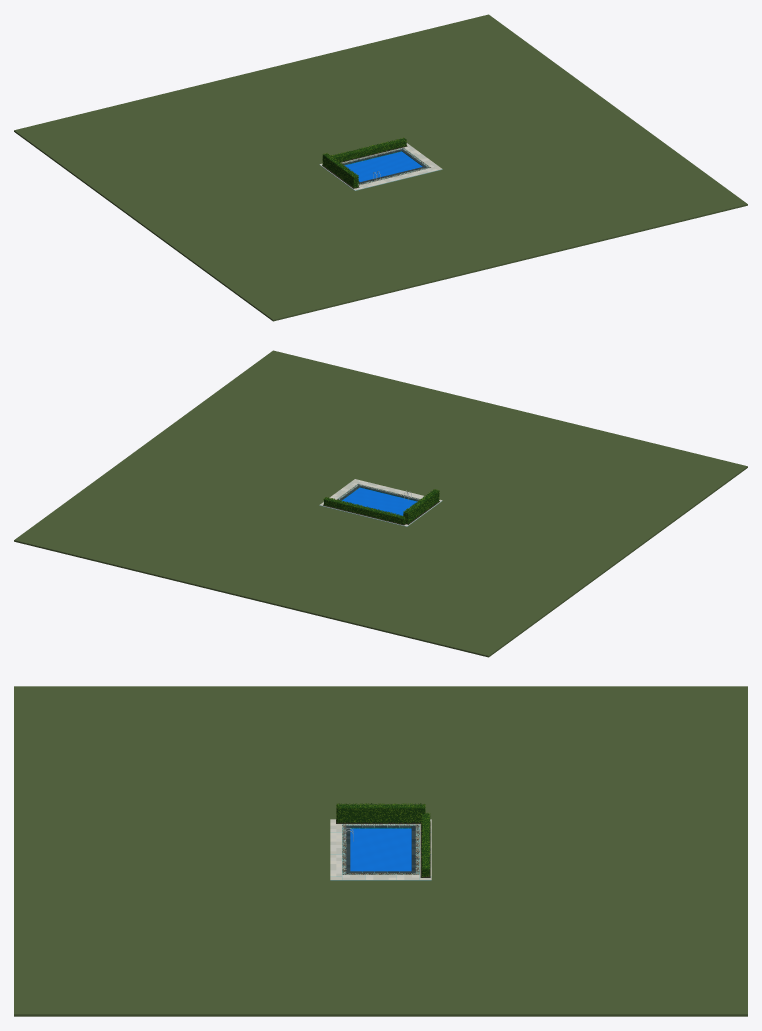
Rendered from pool.fbx.
3 views of the same model, one above another, from view 1: azimuth 30°, elevation 25°; view 2: azimuth 150°, elevation 25°; view 3: azimuth 270°, elevation 25° (orthographic). The views are drawn at different scales.
Visible parts, largest first — view 1: Stage ground - exclude from export.009, Stage ground - exclude from export.008, Stage ground - exclude from export.011, Stage ground - exclude from export.010, Water_INSIDE_Pool.001, Low north hedge foliage.001, Low north hedge dense interior.001, Tall west hedge foliage.001, Tall west hedge dense interior.001; view 2: Stage ground - exclude from export.008, Stage ground - exclude from export.009, Stage ground - exclude from export.011, Stage ground - exclude from export.010, Water_INSIDE_Pool.001, Low north hedge foliage.001, Low north hedge dense interior.001, Tall west hedge foliage.001; view 3: Stage ground - exclude from export.008, Stage ground - exclude from export.009, Stage ground - exclude from export.010, Stage ground - exclude from export.011, Water_INSIDE_Pool.001, Tall west hedge dense interior.001, Tall west hedge foliage.001, Dark basalt coping.001, Individual river pebbles.001, Deck paving 01.002, Low north hedge foliage.001.
Boxes of the visible parts, x1,y1,x2,y2 form: Stage ground - exclude from export.009: (161, 122, 747, 321); Stage ground - exclude from export.008: (14, 14, 599, 212); Stage ground - exclude from export.011: (125, 165, 354, 239); Stage ground - exclude from export.010: (408, 96, 635, 169); Water_INSIDE_Pool.001: (345, 151, 422, 181); Low north hedge foliage.001: (331, 137, 406, 162); Low north hedge dense interior.001: (332, 139, 406, 161); Tall west hedge foliage.001: (322, 152, 358, 188); Tall west hedge dense interior.001: (323, 154, 358, 187); Stage ground - exclude from export.008: (14, 458, 600, 657); Stage ground - exclude from export.009: (162, 350, 747, 548); Stage ground - exclude from export.011: (407, 501, 636, 575); Stage ground - exclude from export.010: (126, 432, 353, 505); Water_INSIDE_Pool.001: (342, 487, 417, 515); Low north hedge foliage.001: (323, 497, 405, 524); Low north hedge dense interior.001: (324, 498, 405, 524); Tall west hedge foliage.001: (403, 489, 439, 524); Stage ground - exclude from export.008: (431, 686, 747, 1016); Stage ground - exclude from export.009: (14, 686, 330, 1016); Stage ground - exclude from export.010: (330, 880, 431, 1016); Stage ground - exclude from export.011: (330, 686, 431, 819); Water_INSIDE_Pool.001: (350, 828, 411, 871); Tall west hedge dense interior.001: (337, 804, 424, 822); Tall west hedge foliage.001: (336, 803, 425, 823); Dark basalt coping.001: (346, 825, 415, 873); Individual river pebbles.001: (342, 824, 419, 874); Deck paving 01.002: (330, 819, 341, 879); Low north hedge foliage.001: (421, 812, 430, 877).
Size of the model in its own units: 7360 by 337 by 6960.
